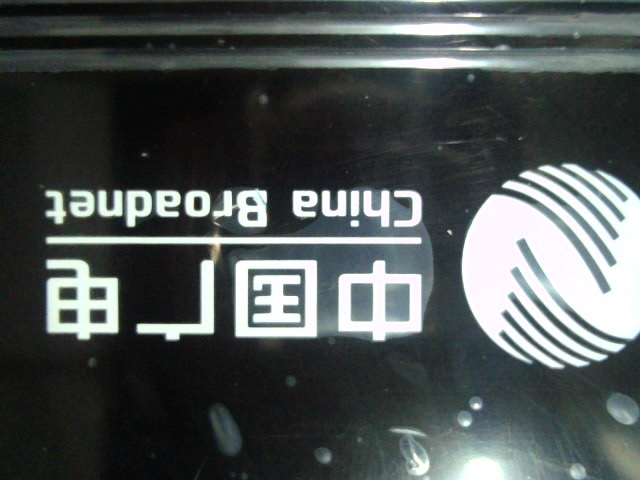AW_ChinaBroadNet: (29, 150, 639, 386)
